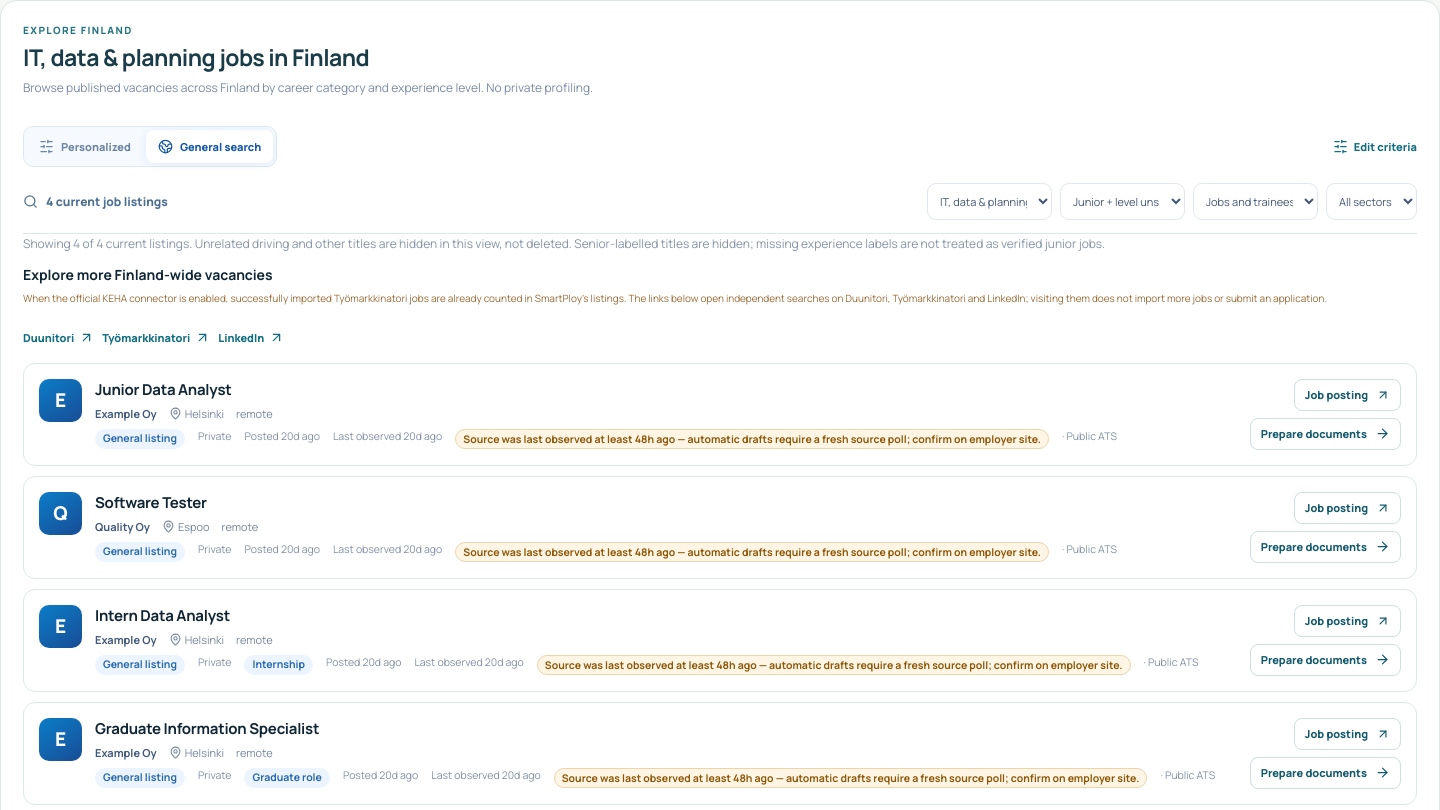
Scenario: source-backed traineeship discovery › filters internship and graduate vacancies independently from training directories
The width and height of the screenshot is (1440, 810).
Select "Trainee, internship & graduate" in the dropdown named "opportunity type": (1256,201) left=1193, top=182, right=1318, bottom=220
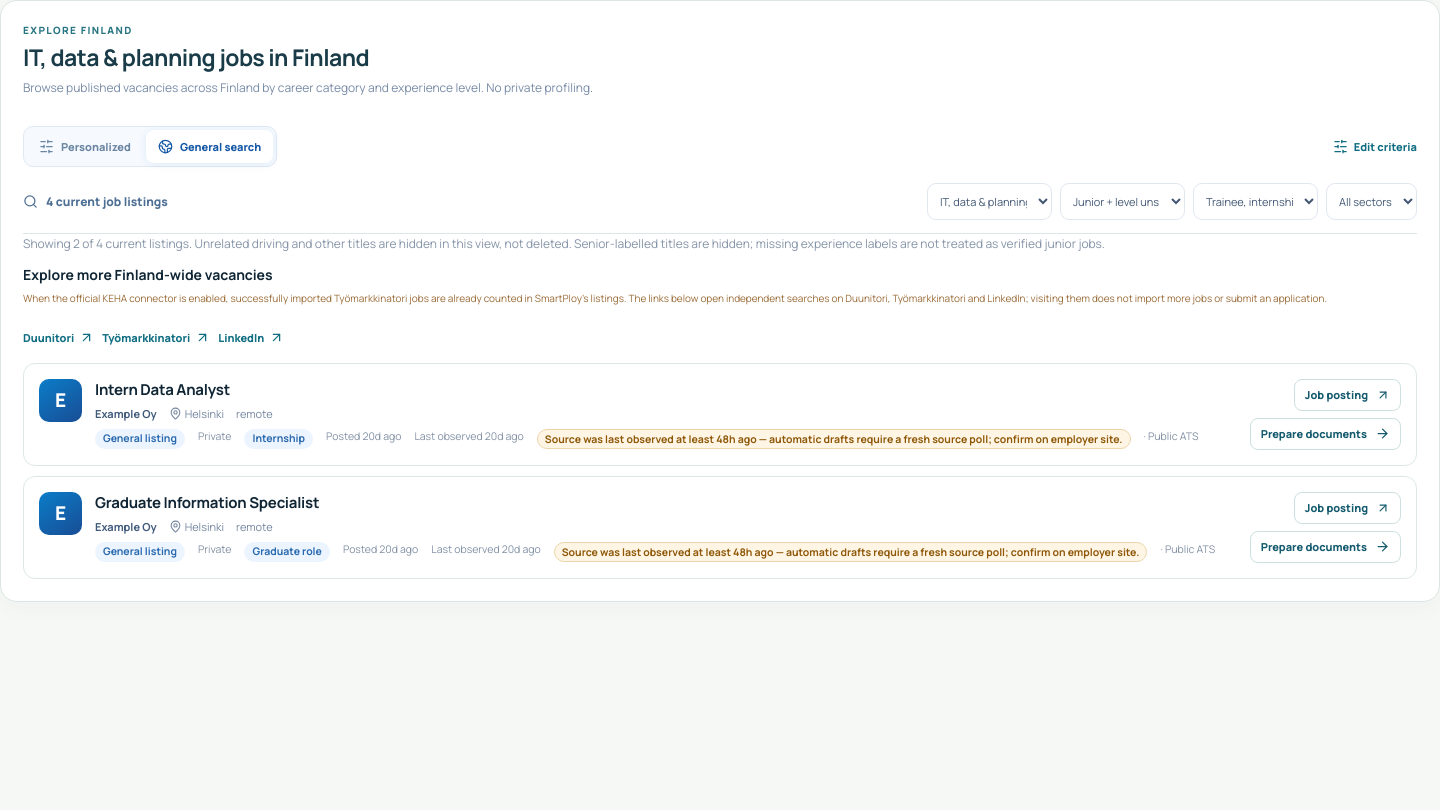
Expected: the heading "Intern Data Analyst" is shown, left=95, top=379, right=230, bottom=400
Expected: the heading "Software Tester" is gone
Select "Jobs and traineeships" in the dropdown named "opportunity type": (1256,201) left=1193, top=182, right=1318, bottom=220
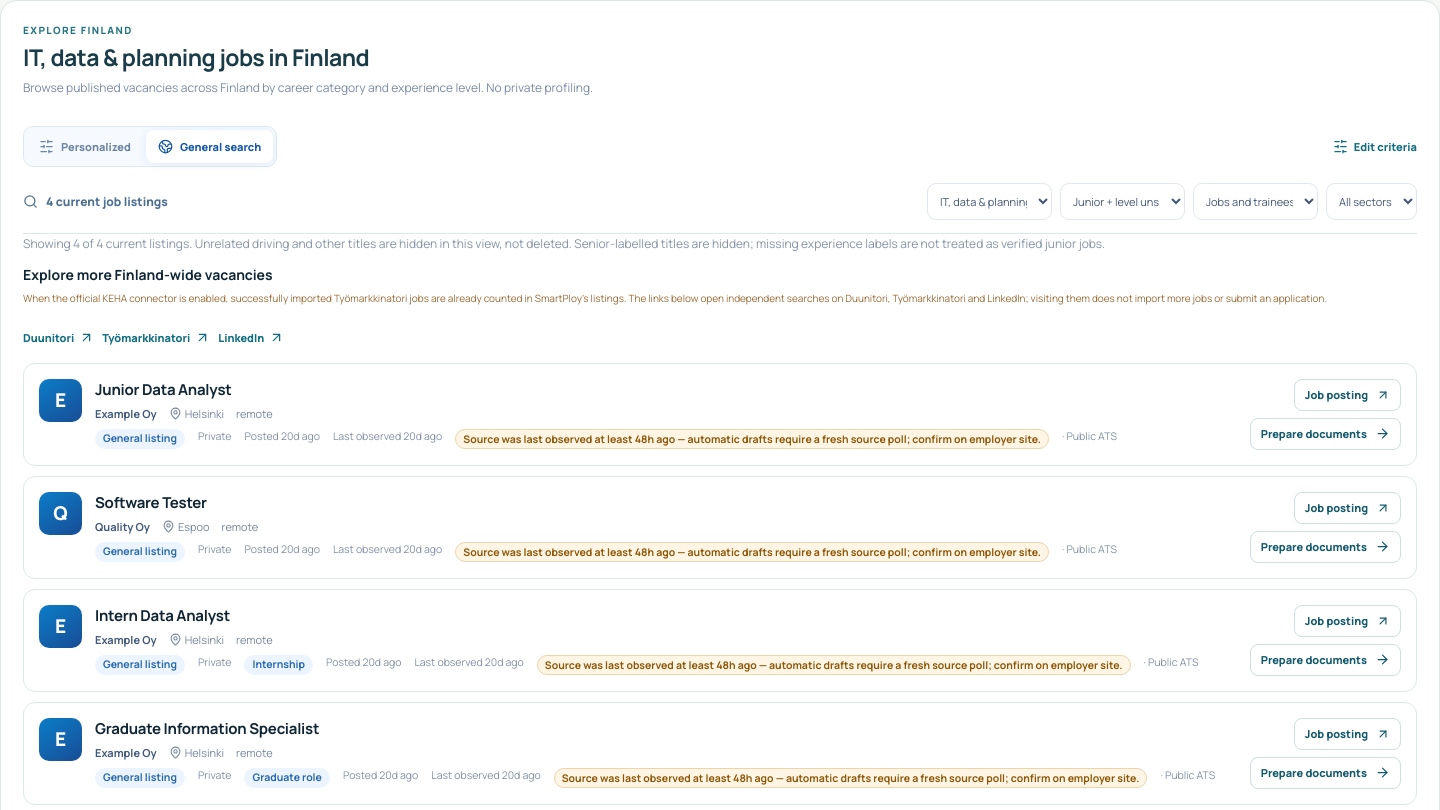
Expected: the heading "Software Tester" is shown, left=95, top=492, right=207, bottom=513
